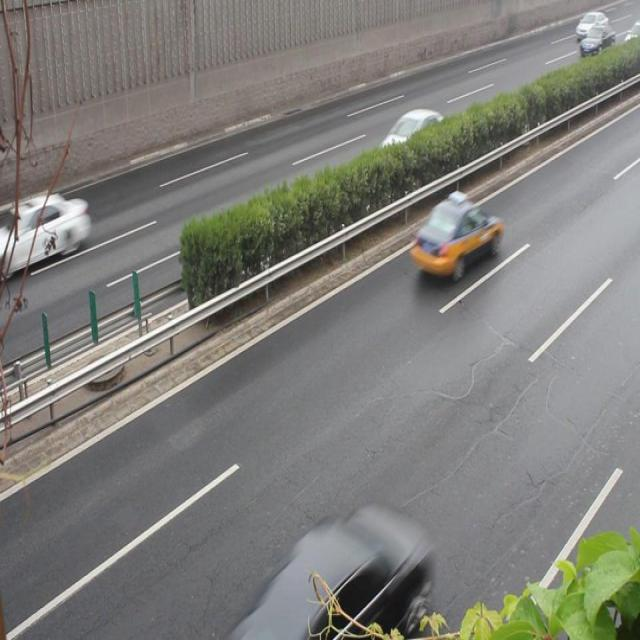car: (243, 505, 423, 640), (408, 194, 499, 280), (1, 193, 89, 274), (378, 109, 453, 175)
